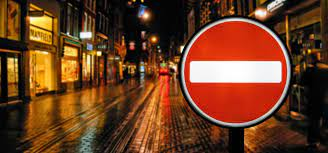No entry: (179, 18, 291, 129)
